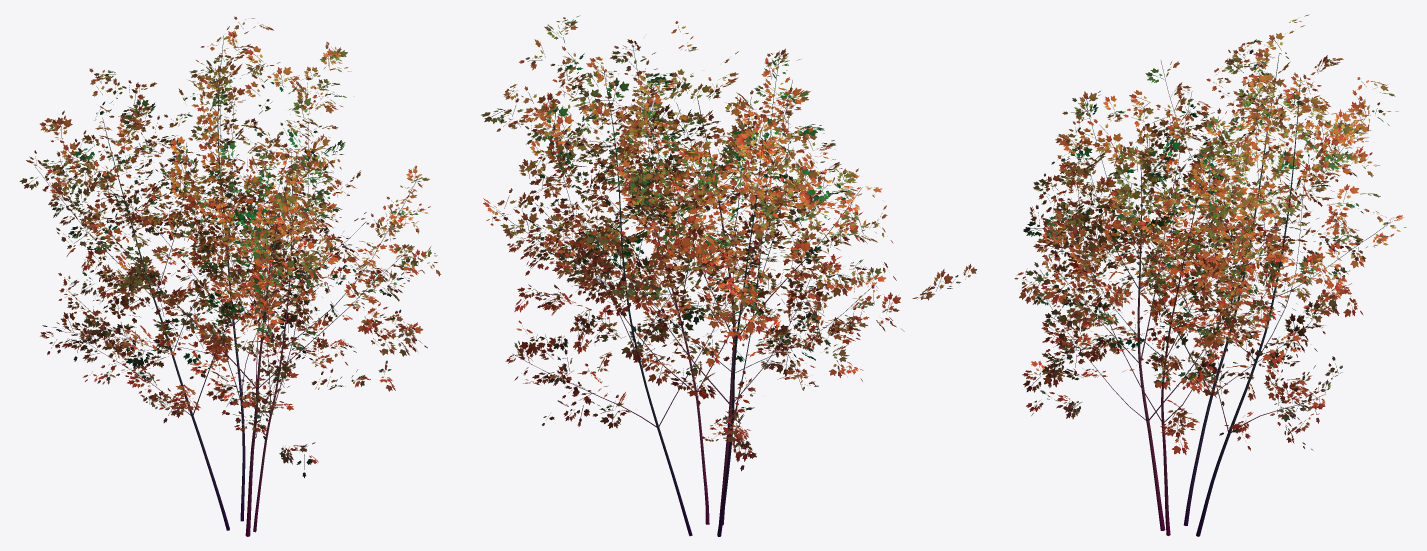
The model's file is asset.glb.
3 renders of one model, left to right at view 1: azimuth 30°, elevation 25°; view 2: azimuth 150°, elevation 25°; view 3: azimuth 270°, elevation 25°, orthographic. The views are drawn at different scales.
Parts seen in each view (by area): view 1: rocky_mountain_maple_LOD0; view 2: rocky_mountain_maple_LOD0; view 3: rocky_mountain_maple_LOD0.
Boxes of the visible parts, x1,y1,x2,y2 form: rocky_mountain_maple_LOD0: [19, 16, 440, 536]; rocky_mountain_maple_LOD0: [481, 15, 976, 536]; rocky_mountain_maple_LOD0: [1014, 14, 1406, 536].
Size of the model in its own units: 5.81 by 6.75 by 5.11.
2 materials, 2 textured.
